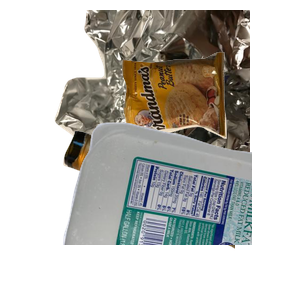glass: (60, 128, 300, 300)
metal: (52, 10, 292, 190)
plastic: (60, 120, 300, 300)
trash: (120, 50, 300, 182)
